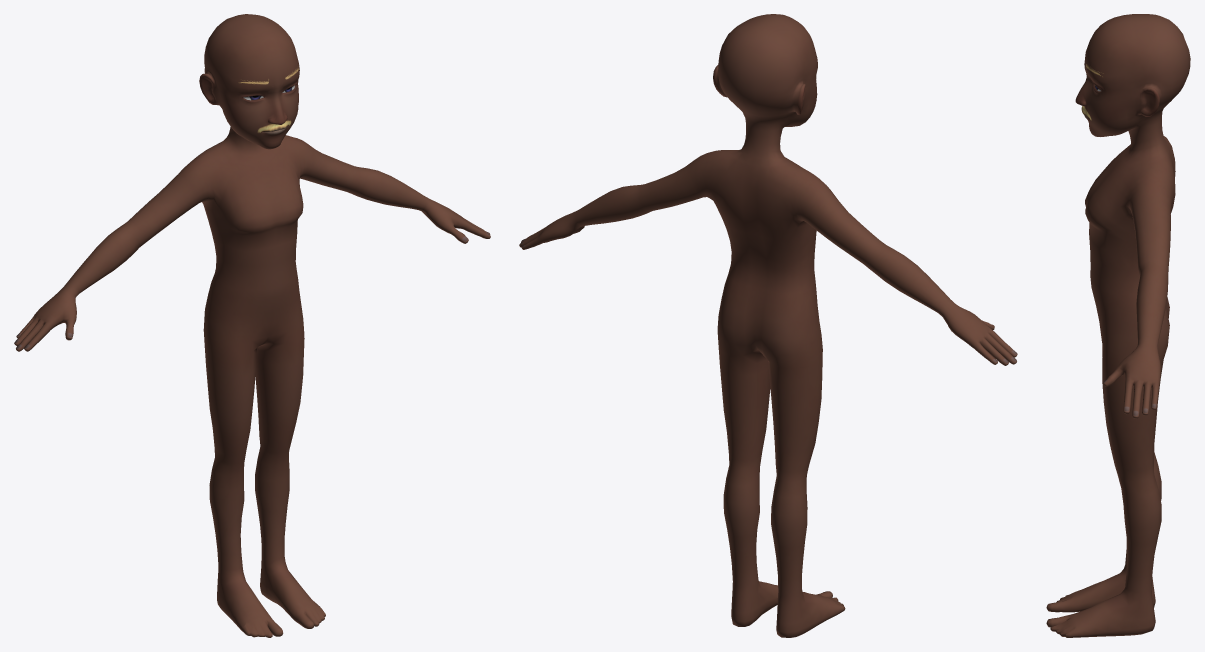
File: frame_0042.glb
The picture shows the model from 3 angles, left to right: view 1: azimuth 30°, elevation 25°; view 2: azimuth 150°, elevation 25°; view 3: azimuth 270°, elevation 25°; orthographic projection. The views are drawn at different scales.
Visible parts, largest first — view 1: frame_0042_head_geo; view 2: frame_0042_head_geo; view 3: frame_0042_head_geo.
Part boxes in pixels (x1,y1,x2,y2): frame_0042_head_geo: (14,14,490,637); frame_0042_head_geo: (519,14,1017,637); frame_0042_head_geo: (1046,14,1190,637).
Bounding box in the file's own units: 1.28 × 1.5 × 0.3253.
3 materials, 3 textured.
